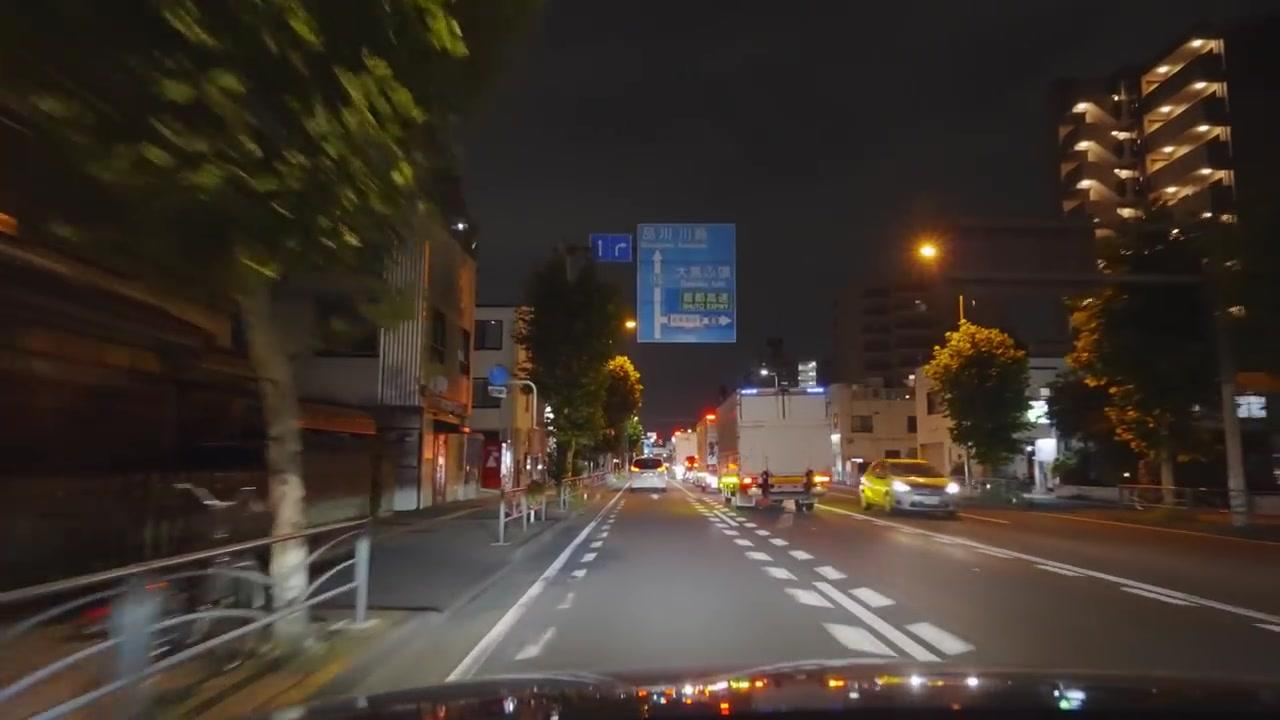car: (94, 568, 283, 679), (859, 457, 961, 518), (629, 456, 669, 495)
traffic light: (705, 411, 716, 424)
truck: (737, 416, 833, 513)
